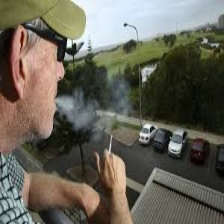smoke: (61, 97, 98, 126)
